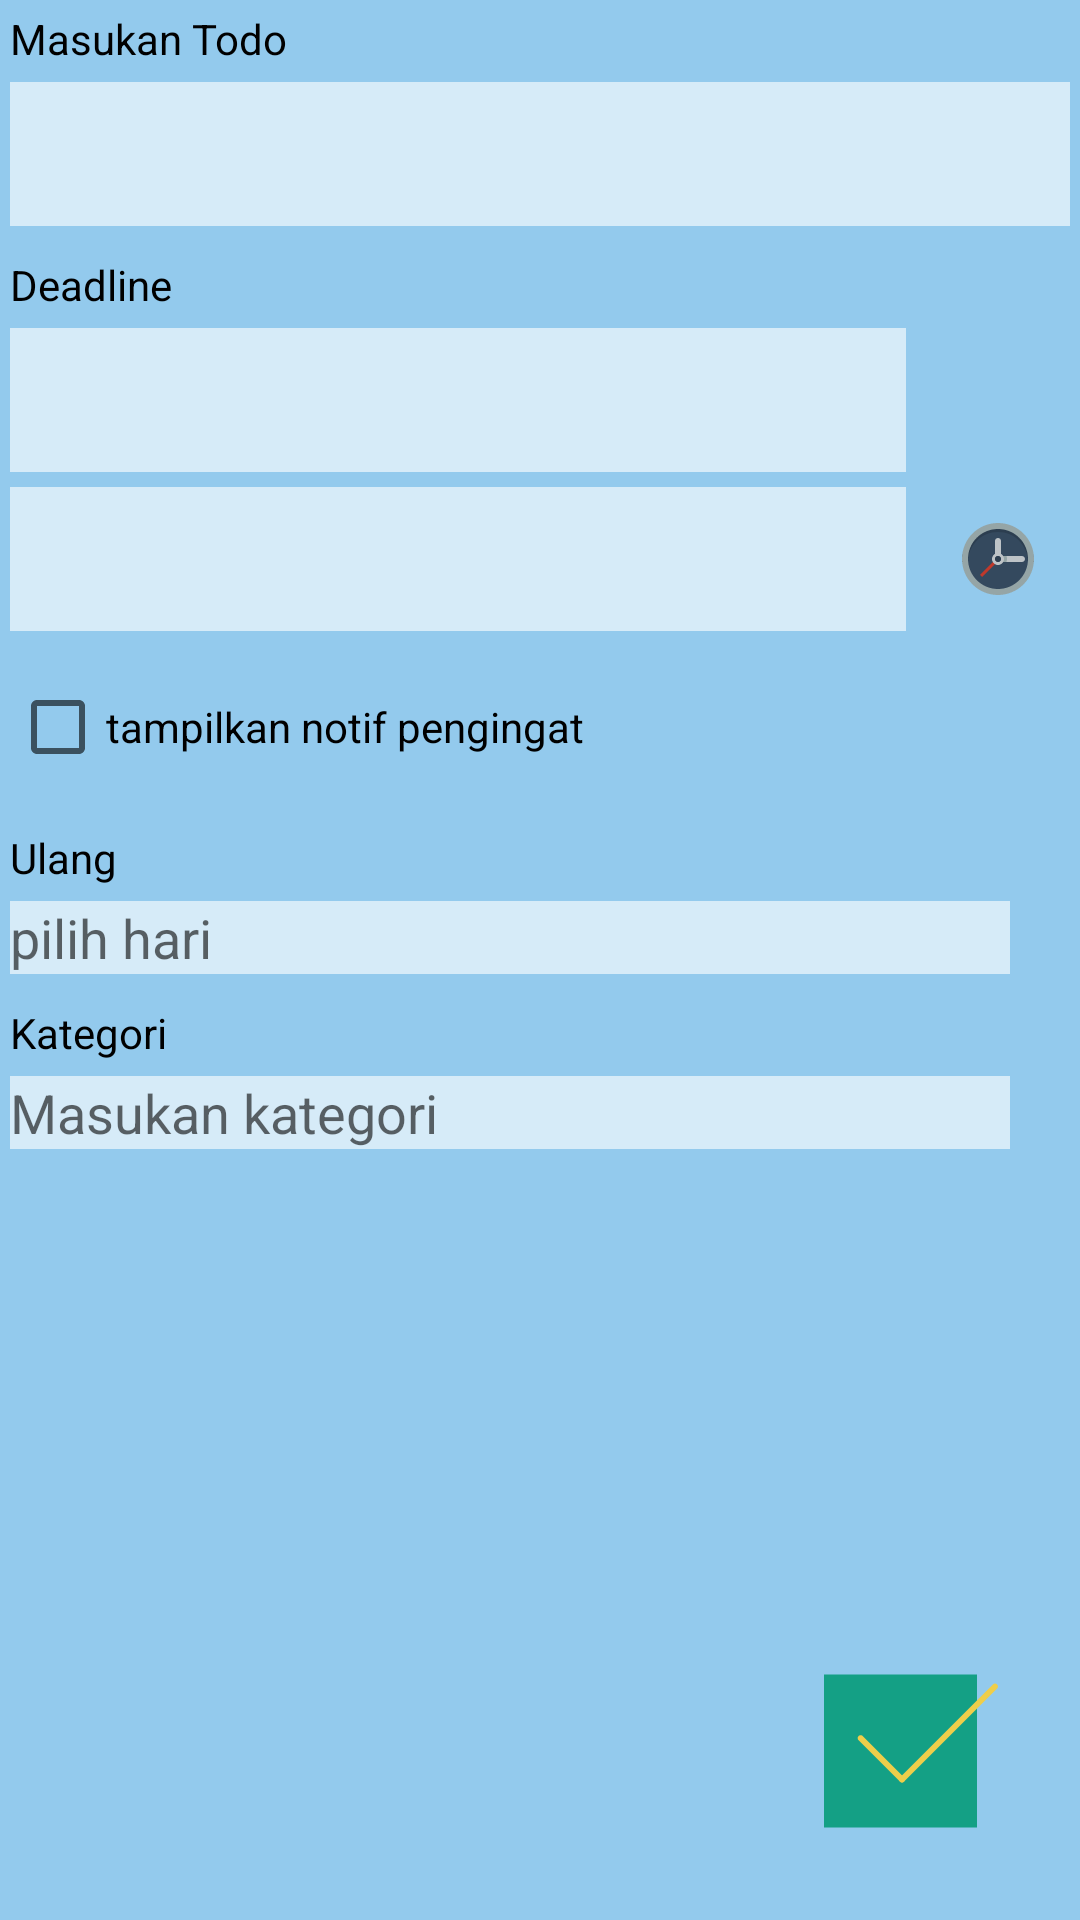

Point at icon controls on the screen. Image size 1080 × 1920, points as (x,y).
checked: (911,1751)
clock: (998,559)
